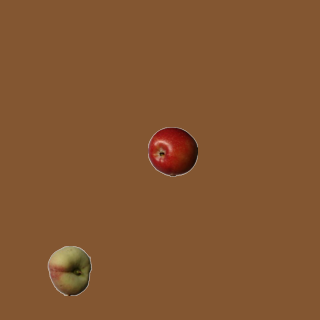Apple Braeburn: (147, 126, 197, 176)
Peach Flat: (44, 245, 94, 295)
